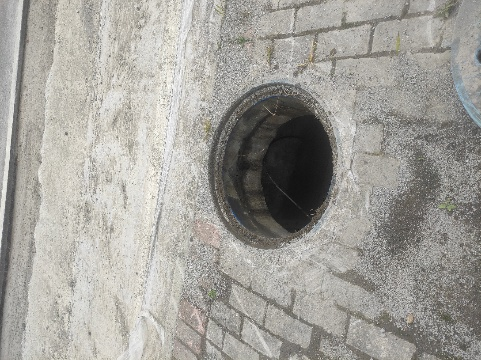lose: (211, 83, 338, 250)
